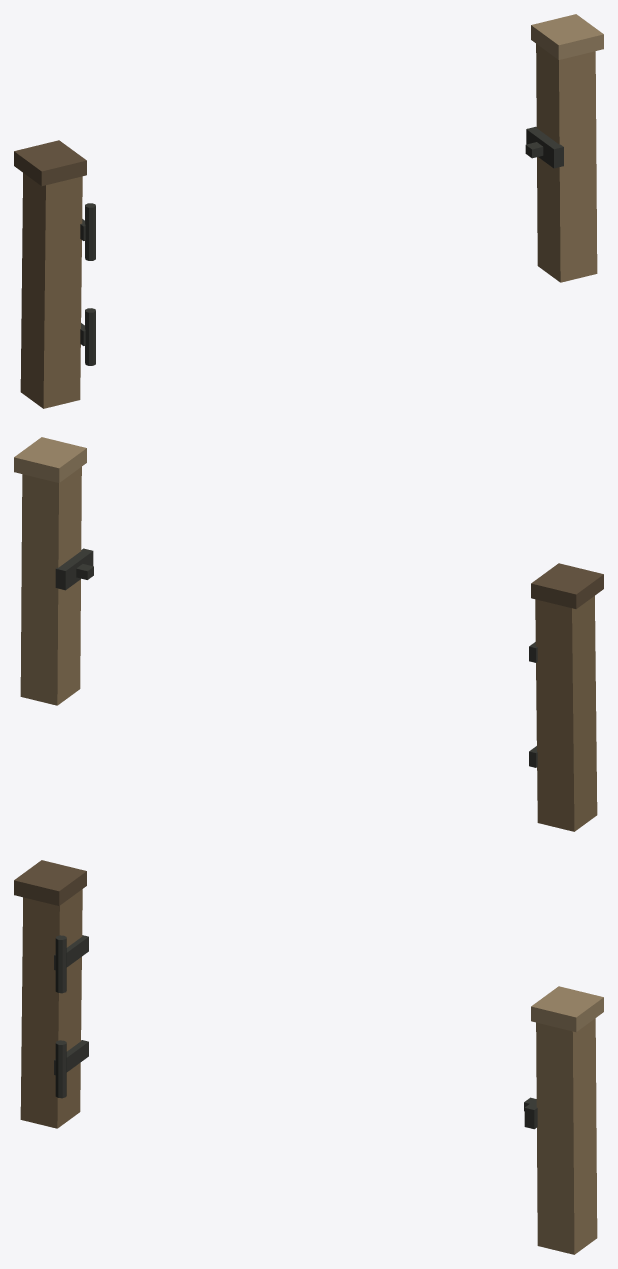
Rendered from lwf_farm_gate_posts_v1.glb.
3 renders of one model, top to bottom at view 1: azimuth 30°, elevation 25°; view 2: azimuth 150°, elevation 25°; view 3: azimuth 330°, elevation 25°, orthographic.
Parts seen in each view (by area): view 1: lwf_farm_gate_posts_v1; view 2: lwf_farm_gate_posts_v1; view 3: lwf_farm_gate_posts_v1.
Boxes of the visible parts, x1=… form: lwf_farm_gate_posts_v1: x1=14, y1=14, x2=603, y2=408; lwf_farm_gate_posts_v1: x1=14, y1=437, x2=603, y2=831; lwf_farm_gate_posts_v1: x1=14, y1=860, x2=603, y2=1254.
Size of the model in its own units: 3.98 by 1.62 by 0.385.
Materials: 1 (1 with a texture image).
